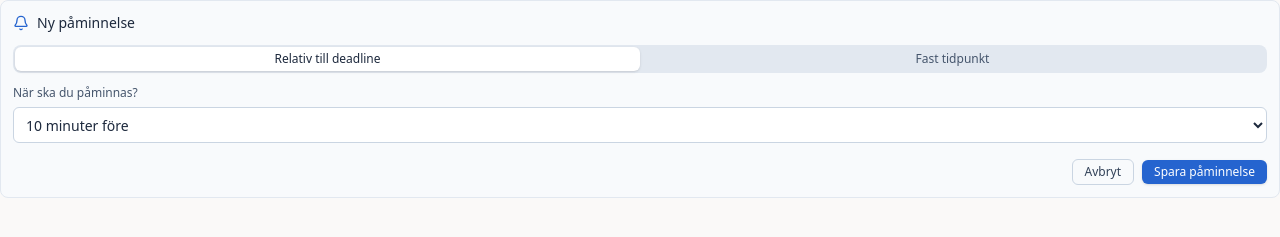
Test: ReminderEditor.vue › allows switching between relative and absolute mode when dueDate exists
Check: the dropdown with id "relative-reminder-offset" is shown, box [13, 107, 1267, 143]
Note: Switch to absolute
Click the tab "Fast tidpunkt" at (952, 59), box [640, 47, 1265, 71]
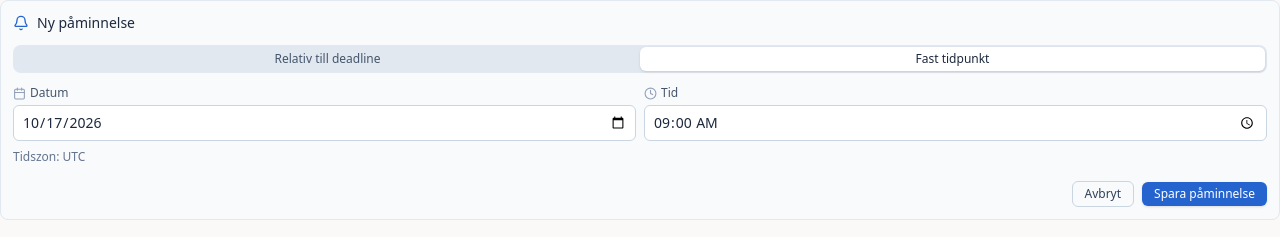
Check: the date field with id "reminder-date" is shown, box [13, 105, 636, 141]
Check: the time field with id "reminder-time" is shown, box [644, 105, 1267, 141]
